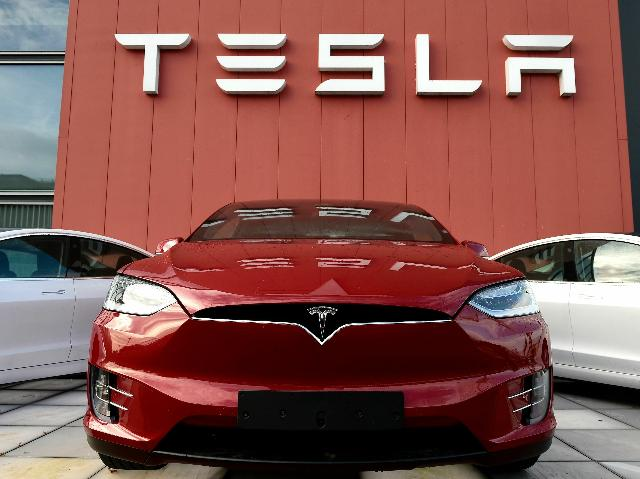tesla: (82, 200, 560, 473)
